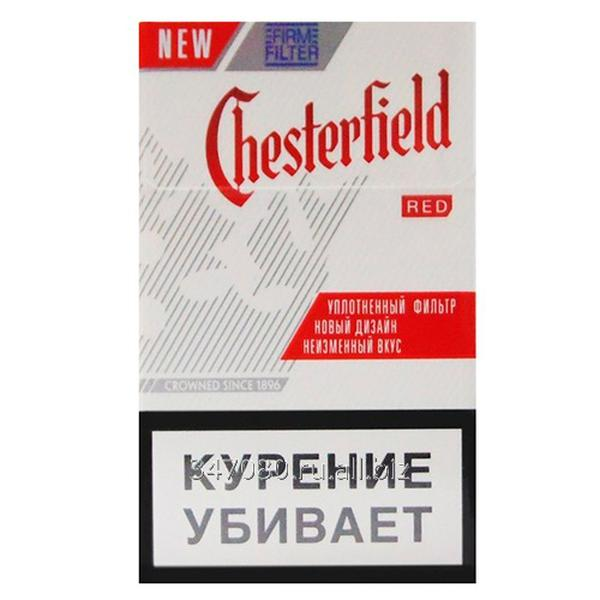chesterfield_red: (142, 26, 472, 582)
